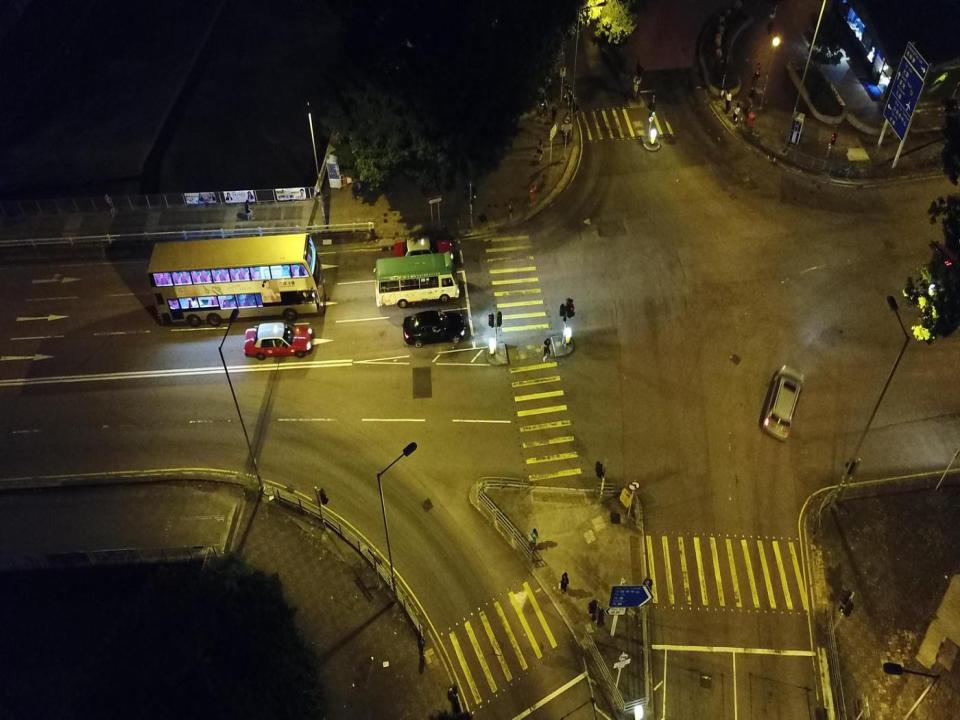bus: (146, 232, 326, 328), (373, 250, 459, 309)
car: (761, 364, 804, 441), (243, 322, 313, 361), (402, 309, 466, 348), (392, 237, 453, 263)
